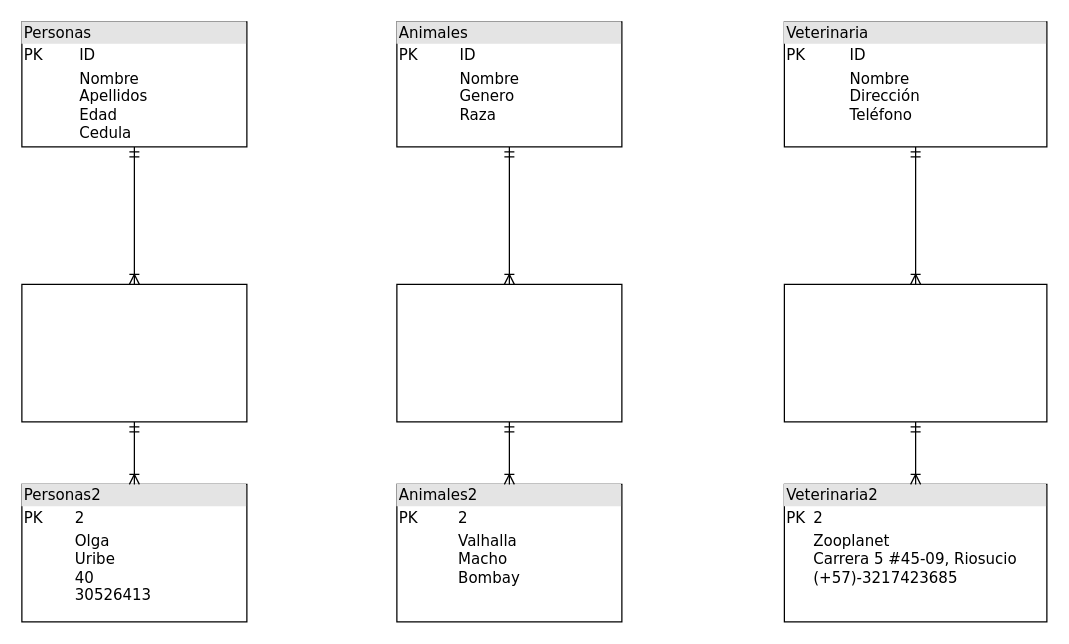
This 1069x644 diagram has some shape labels left out. Each missing label, with the centre of its shape:
Animales1 PK 1 Fargo Macho Husky Siberiano: pixel 509 352
Peronas1 PK 1 Yeny González 30 1234567890: pixel 134 352
Veterinaria1 PK 1 Riovet Avenida 7 de agosto, Riosucio (+57)-3023568799: pixel 915 352
